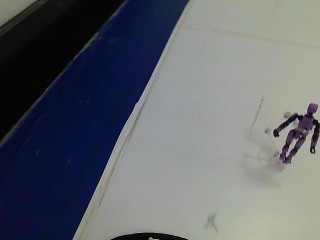pedestrian: (269, 93, 318, 172)
